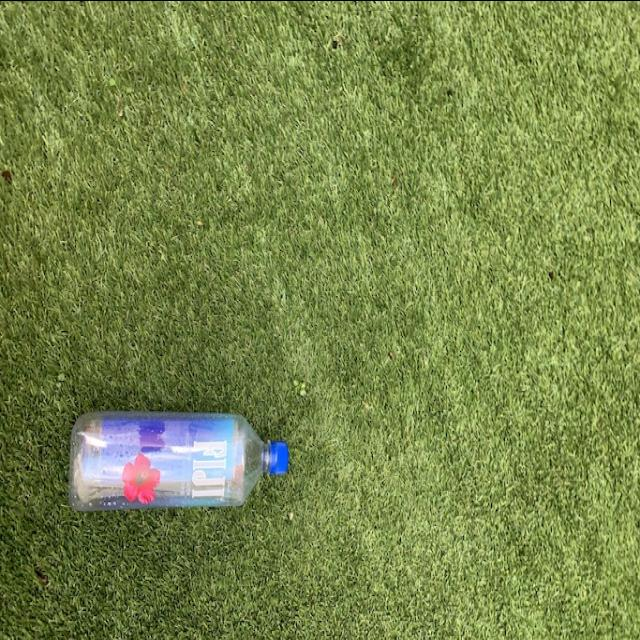PET: (72, 412, 286, 506)
